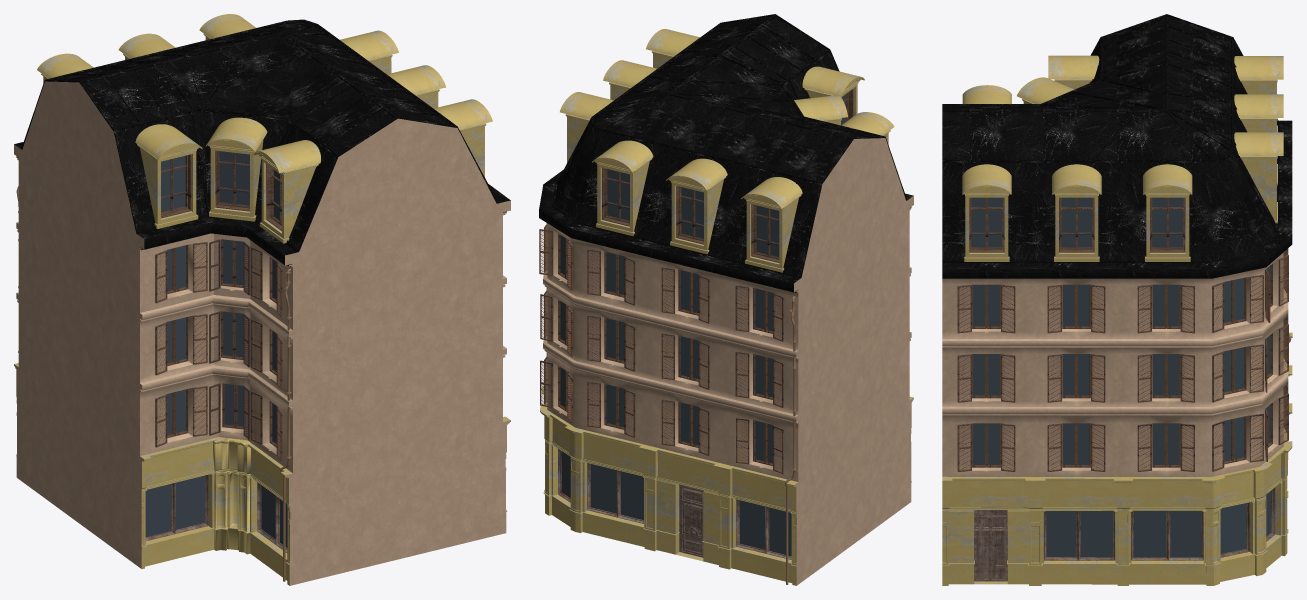
The model's file is block_corner.fbx.
3 renders of one model, left to right at view 1: azimuth 30°, elevation 25°; view 2: azimuth 150°, elevation 25°; view 3: azimuth 270°, elevation 25°, orthographic. The views are drawn at different scales.
Parts seen in each view (by area): view 1: block_corner; view 2: block_corner; view 3: block_corner.
Boxes of the visible parts, <box> form: block_corner: <box>14,14,510,585</box>; block_corner: <box>539,14,913,585</box>; block_corner: <box>942,14,1292,585</box>.
Size of the model in its own units: 1430 by 1428 by 1923.
Materials: 13 (9 with a texture image).
